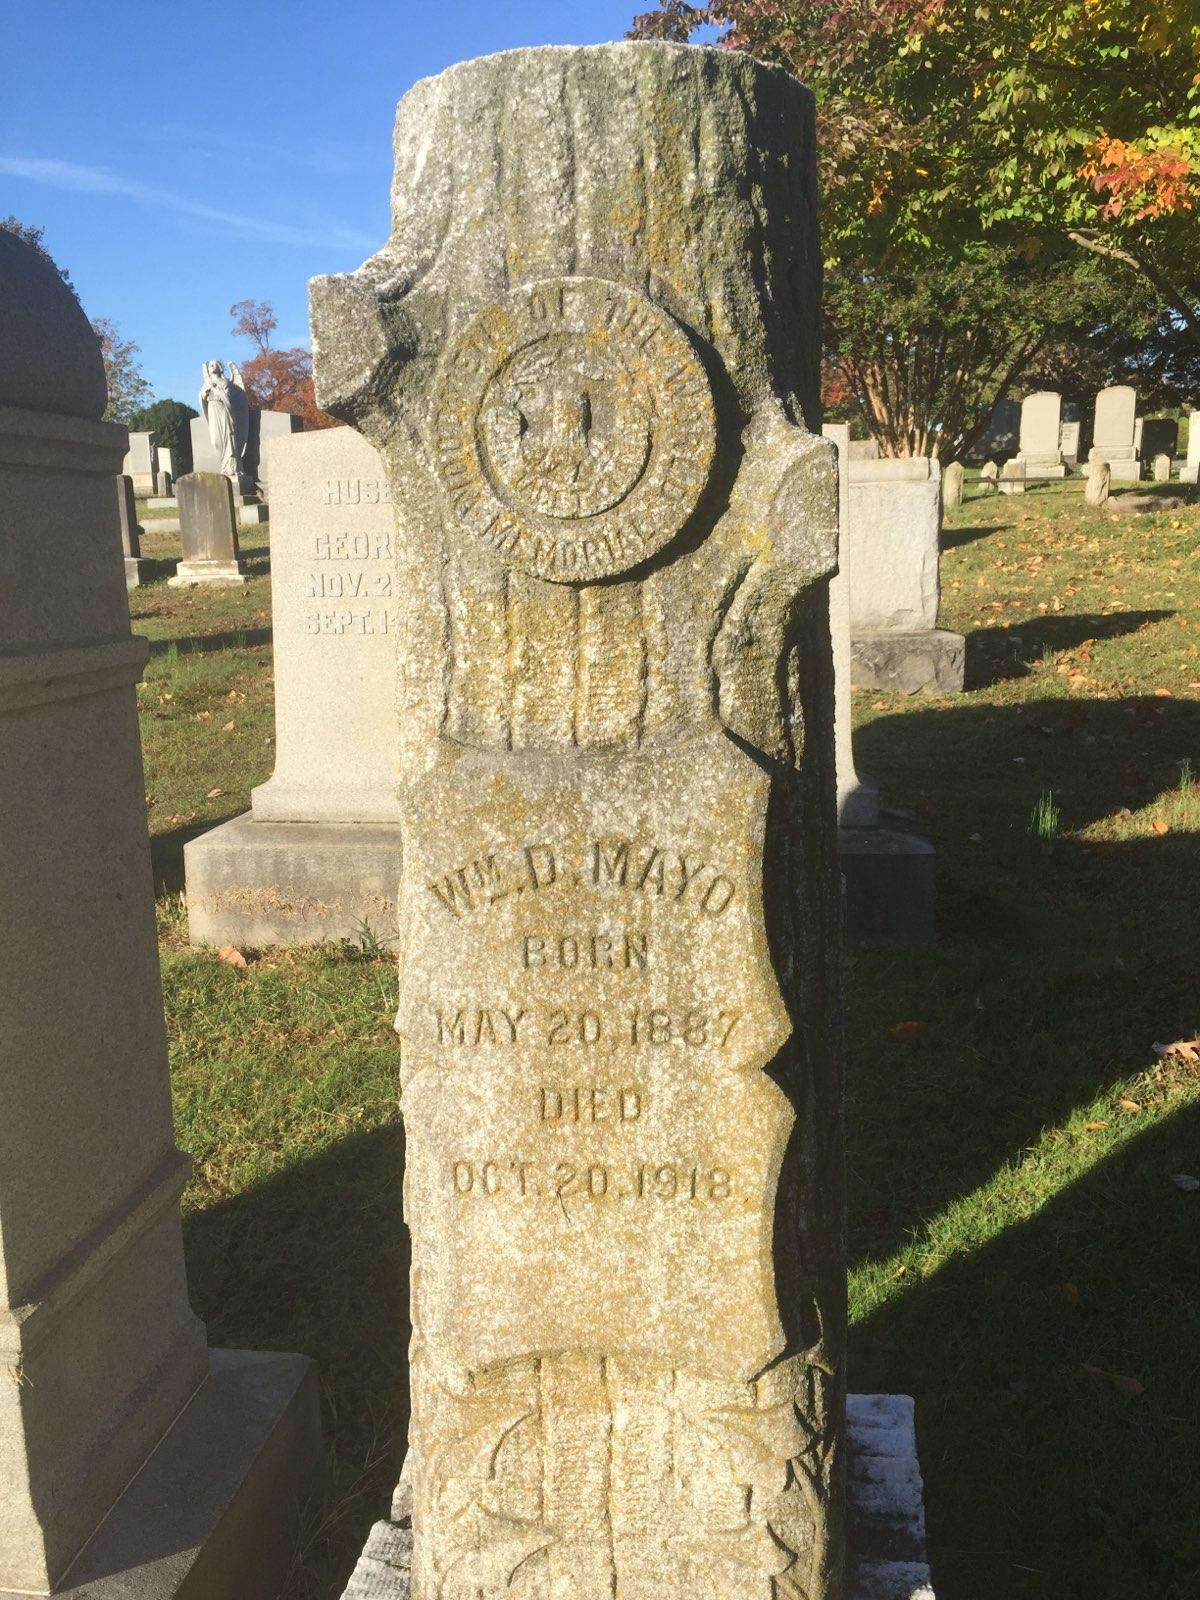obelisk: (321, 40, 839, 1597)
